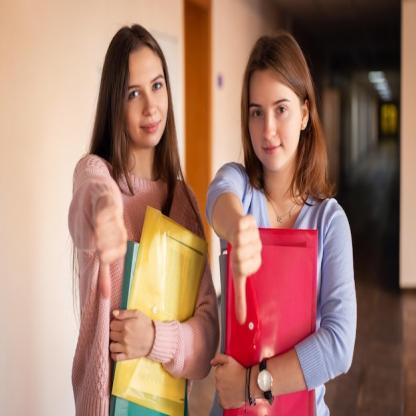thumb_down: (226, 210, 264, 324)
